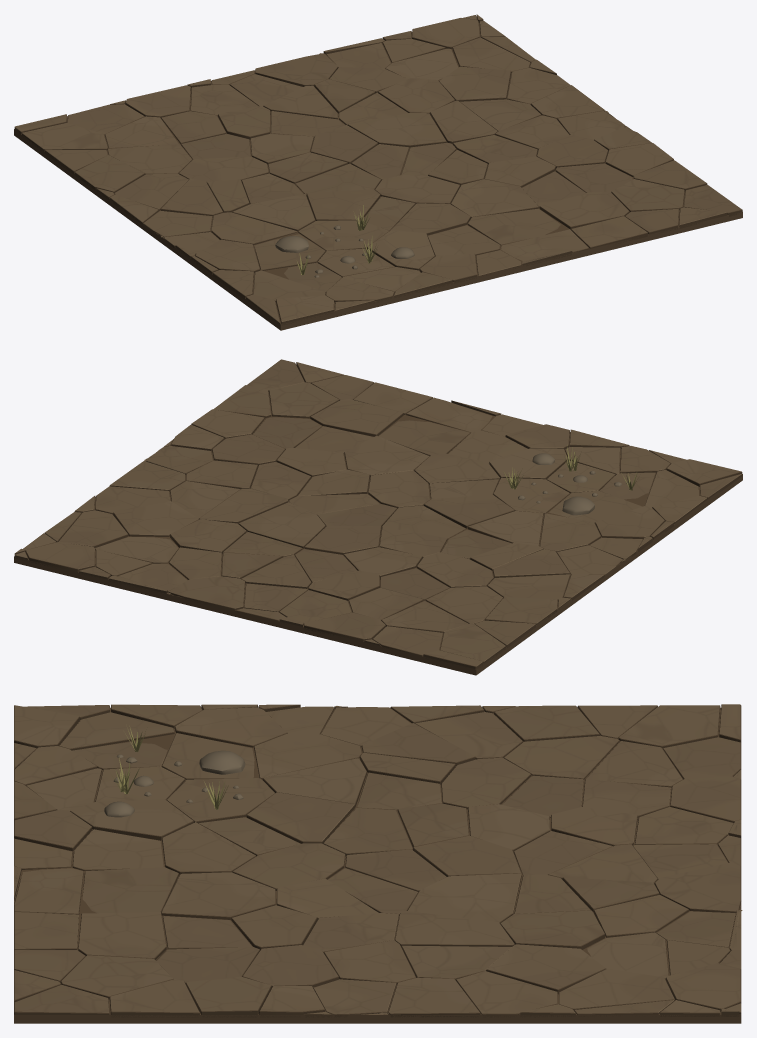
File: 裂纹泥地.glb
The picture shows the model from 3 angles, top to bottom: view 1: azimuth 30°, elevation 25°; view 2: azimuth 150°, elevation 25°; view 3: azimuth 270°, elevation 25°; orthographic projection. The views are drawn at different scales.
Parts seen in each view (by area): view 1: TD-td_plate_c, TD-td_plate_a, TD-td_plate_b, TD-earth_dark, TD-td_rock; view 2: TD-td_plate_c, TD-td_plate_a, TD-td_plate_b, TD-earth_dark, TD-td_rock; view 3: TD-td_plate_c, TD-td_plate_a, TD-td_plate_b, TD-earth_dark, TD-td_rock, TD-td_dry_grass.
Part boxes in pixels (x1,y1,x2,y2): TD-td_plate_c: [22, 20, 727, 325]; TD-td_plate_a: [44, 15, 742, 325]; TD-td_plate_b: [14, 14, 673, 270]; TD-earth_dark: [14, 17, 742, 330]; TD-td_rock: [275, 225, 414, 277]; TD-td_plate_c: [23, 362, 742, 664]; TD-td_plate_a: [14, 359, 742, 648]; TD-td_plate_b: [14, 409, 652, 668]; TD-earth_dark: [14, 392, 742, 675]; TD-td_rock: [518, 453, 631, 515]; TD-td_plate_c: [14, 704, 742, 1017]; TD-td_plate_a: [14, 704, 741, 1017]; TD-td_plate_b: [70, 704, 741, 1017]; TD-earth_dark: [14, 707, 741, 1023]; TD-td_rock: [104, 750, 245, 817]; TD-td_dry_grass: [112, 726, 228, 809].
Bounding box in the file's own units: 8.03 × 0.5439 × 8.02.
Materials: 7 (3 with a texture image).
